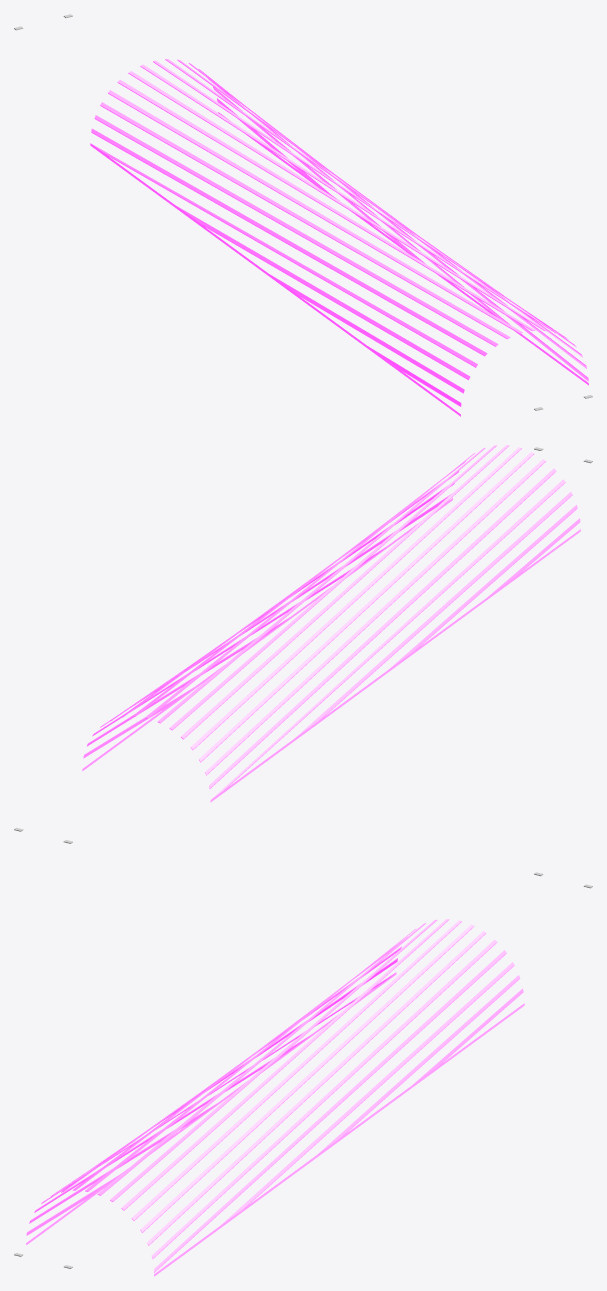
File: FR6Light.fbx
3 renders of one model, top to bottom at view 1: azimuth 30°, elevation 25°; view 2: azimuth 150°, elevation 25°; view 3: azimuth 330°, elevation 25°, orthographic.
Parts seen in each view (by area): view 1: Plane.001; view 2: Plane.001; view 3: Plane.001.
Part boxes in pixels (x1,y1,x2,y2): Plane.001: (14,14,592,416); Plane.001: (14,445,592,843); Plane.001: (14,872,592,1276).
Size of the model in its own units: 2503 by 1295 by 17672.
